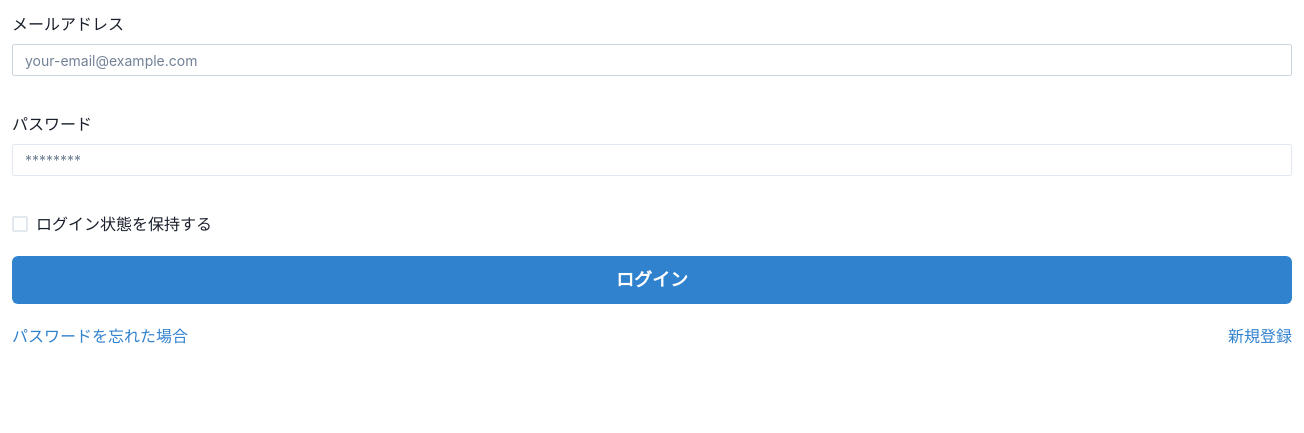
Scenario: LoginForm › ログインが失敗した場合、エラーメッセージが表示されること
Step 1. Type "test@example.com" into the field labelled "メールアドレス" → point(652, 60), box 12,44 -> 1292,76
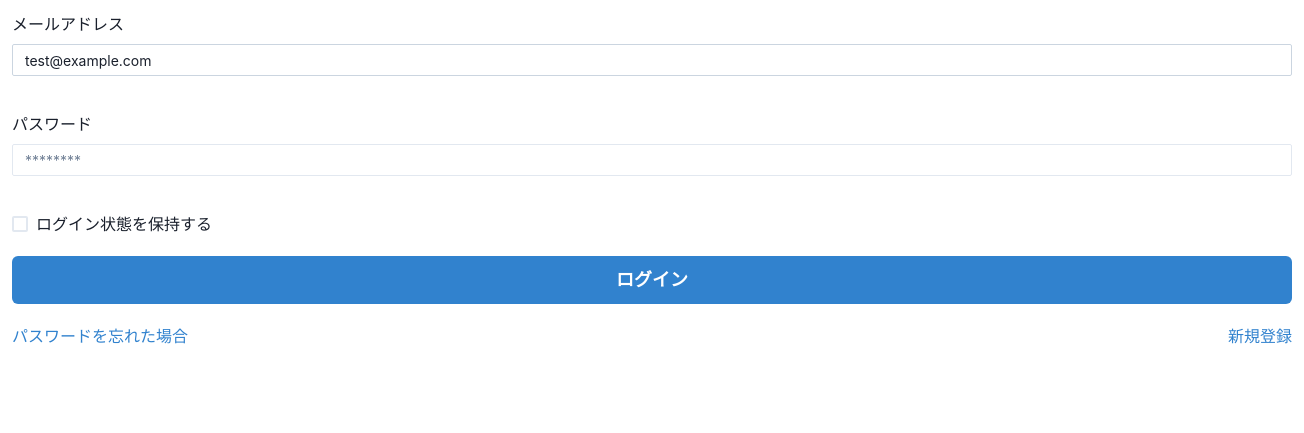
Step 2. Type "wrongpassword" into the password field labelled "パスワード" → point(652, 160), box 12,144 -> 1292,176
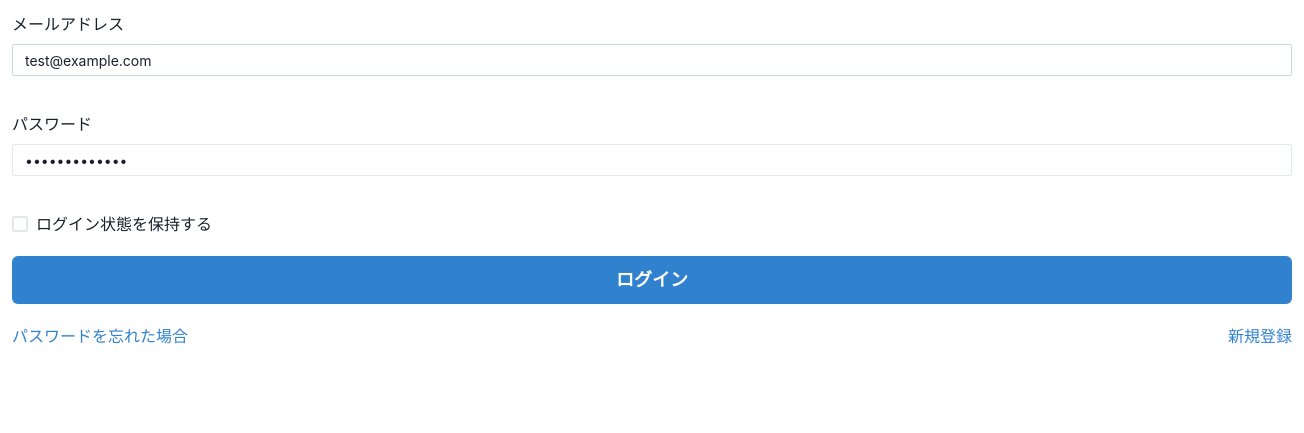
Step 3. Click the button "ログイン" → point(652, 280), box 12,256 -> 1292,304
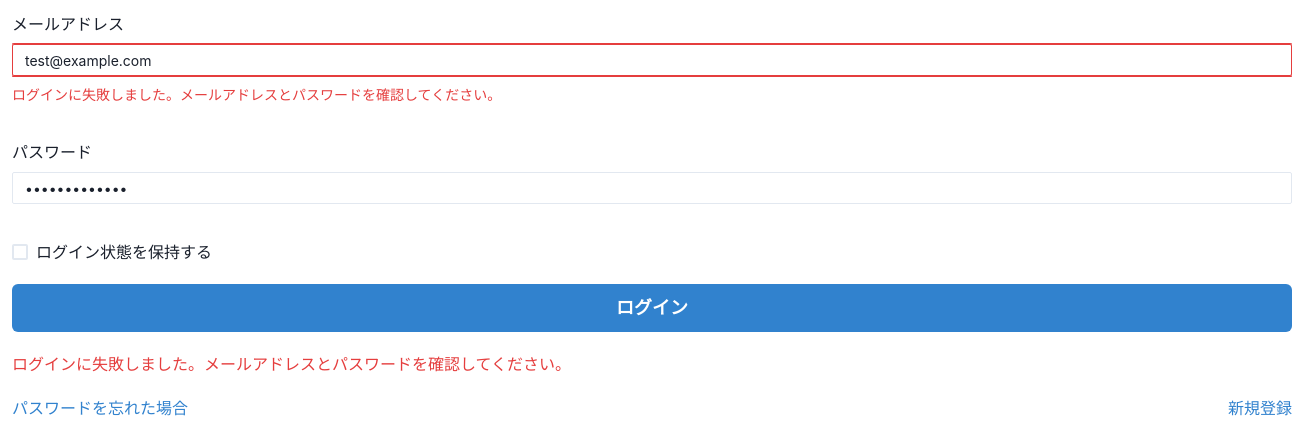
Expected: the 2nd text "ログインに失敗しました。メールアドレスとパスワードを確認してください。" is shown, 12,354 -> 571,374
